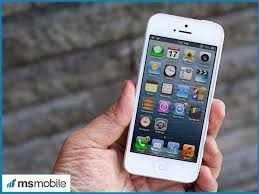iphone: (119, 9, 225, 179)
iphone5: (119, 9, 225, 184)
